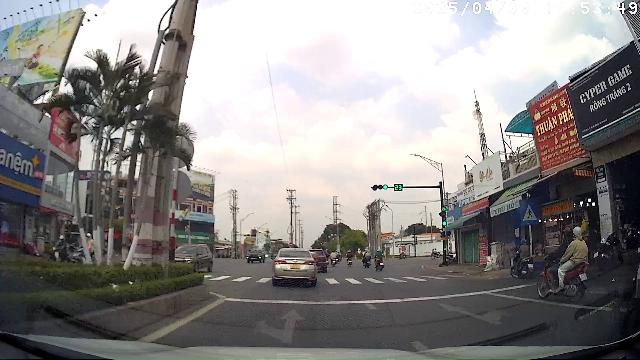423a-duong-nguoi-di-bo-sang-ngang-1: (521, 199, 539, 224)
